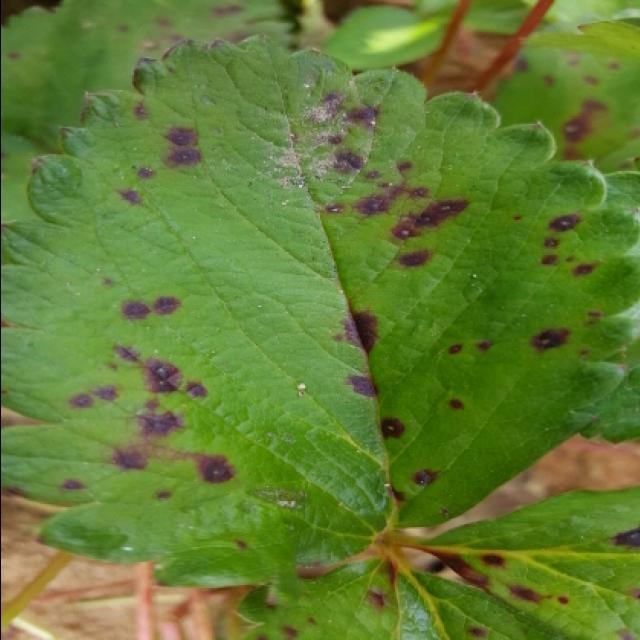Leaf Spot: (2, 33, 640, 587), (2, 2, 293, 155), (411, 486, 640, 640), (239, 551, 561, 640), (495, 20, 640, 177)
